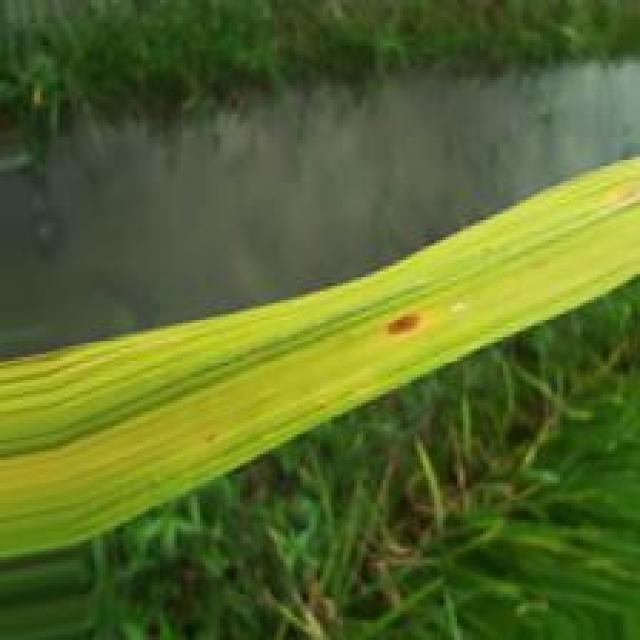Brown_Spot: (384, 308, 431, 342)
